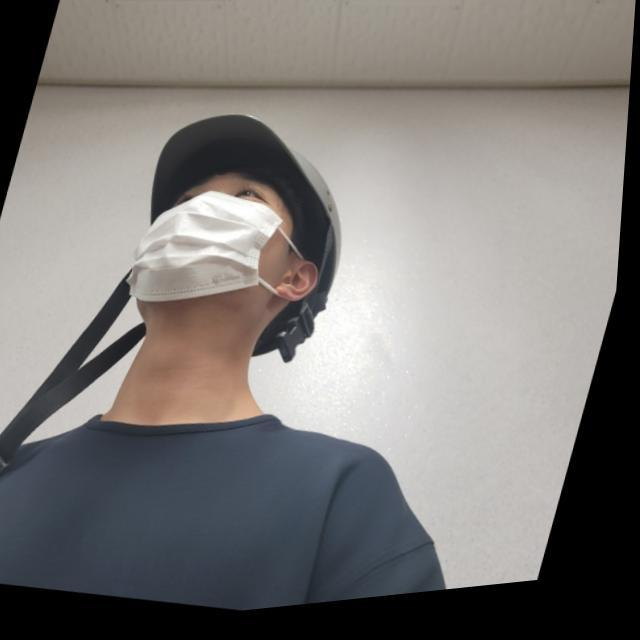Helmet: (130, 110, 345, 363)
